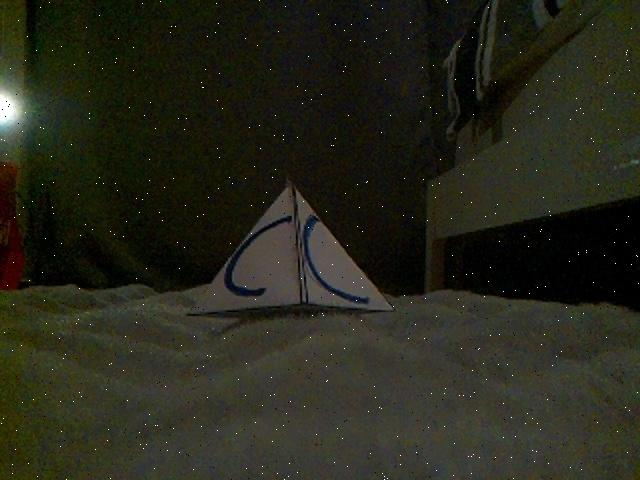C: (192, 182, 395, 313)
